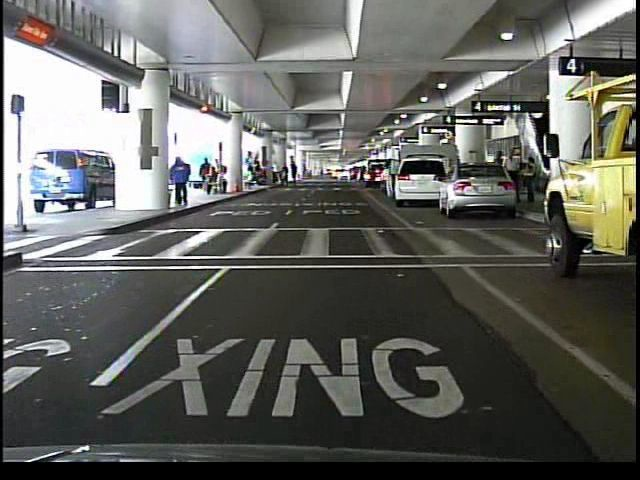person: (169, 153, 195, 207)
